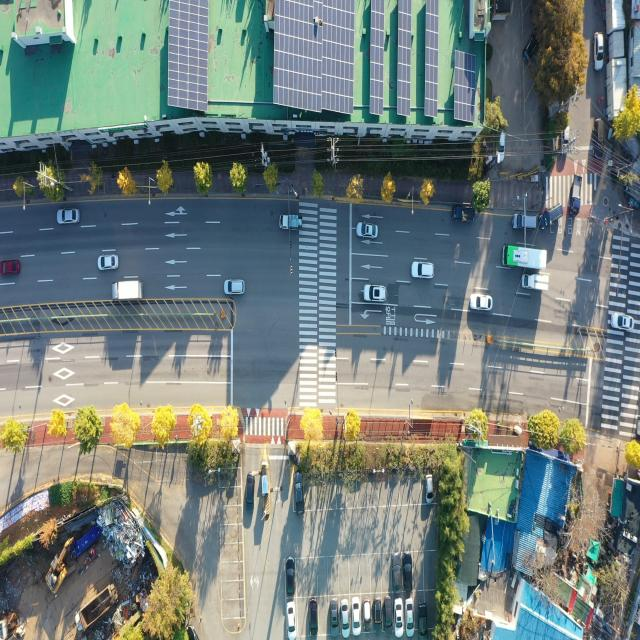car: (538, 202, 564, 233), (526, 24, 544, 63), (593, 116, 606, 158), (594, 26, 606, 69), (513, 212, 537, 231), (610, 312, 634, 330), (365, 284, 388, 302), (469, 292, 492, 310), (412, 262, 434, 280), (98, 252, 120, 270), (58, 208, 81, 225), (308, 598, 318, 637), (246, 472, 255, 514), (357, 221, 378, 238), (1, 260, 20, 278), (497, 129, 507, 163), (295, 473, 303, 514), (287, 601, 296, 637), (373, 595, 382, 631), (224, 279, 244, 295), (404, 552, 412, 592), (385, 595, 393, 634), (419, 601, 427, 640), (393, 554, 401, 592), (341, 601, 350, 634), (286, 560, 294, 596), (407, 603, 415, 638), (352, 599, 360, 634), (561, 124, 571, 152), (363, 597, 371, 631), (331, 598, 338, 636), (425, 474, 434, 503), (395, 599, 402, 633)
large_bus: (503, 243, 549, 270)
medium_truck: (113, 278, 146, 300)
small_truck: (568, 172, 582, 217), (521, 272, 549, 291), (451, 206, 475, 223), (280, 214, 304, 230)
